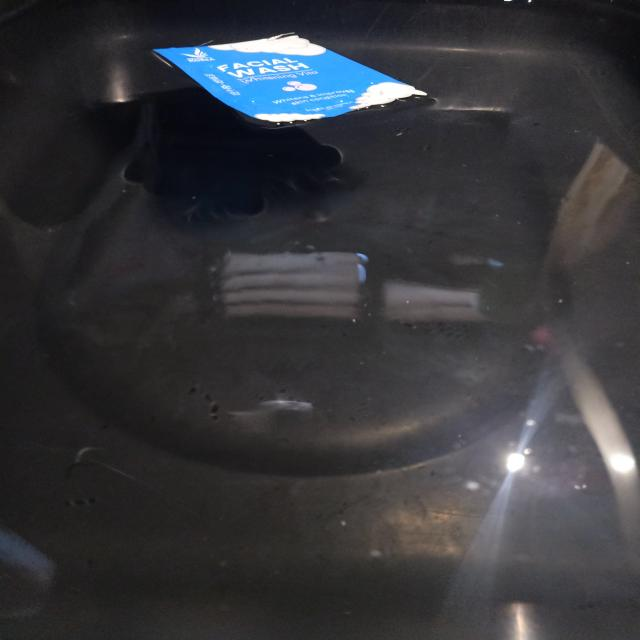Plastic Wrapper: (154, 33, 435, 125)
